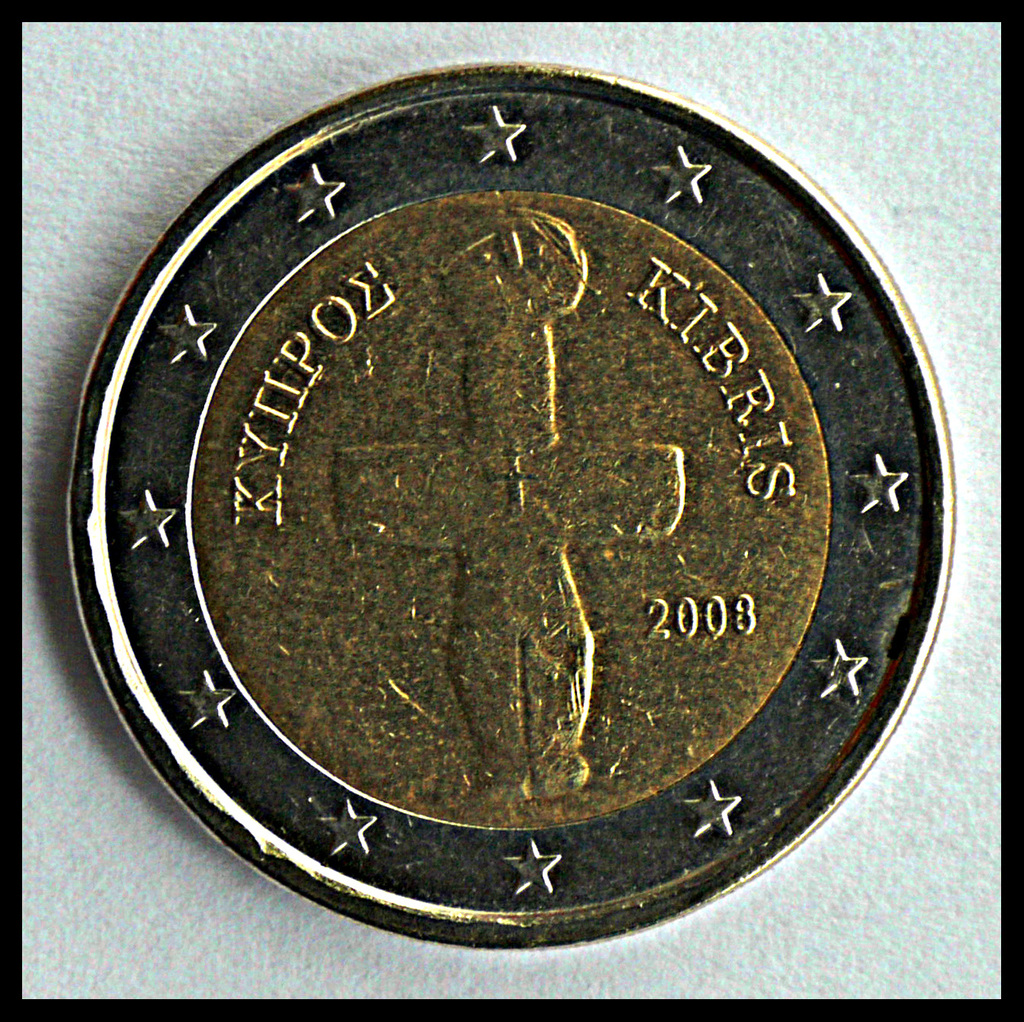Coin: (66, 61, 958, 950)
